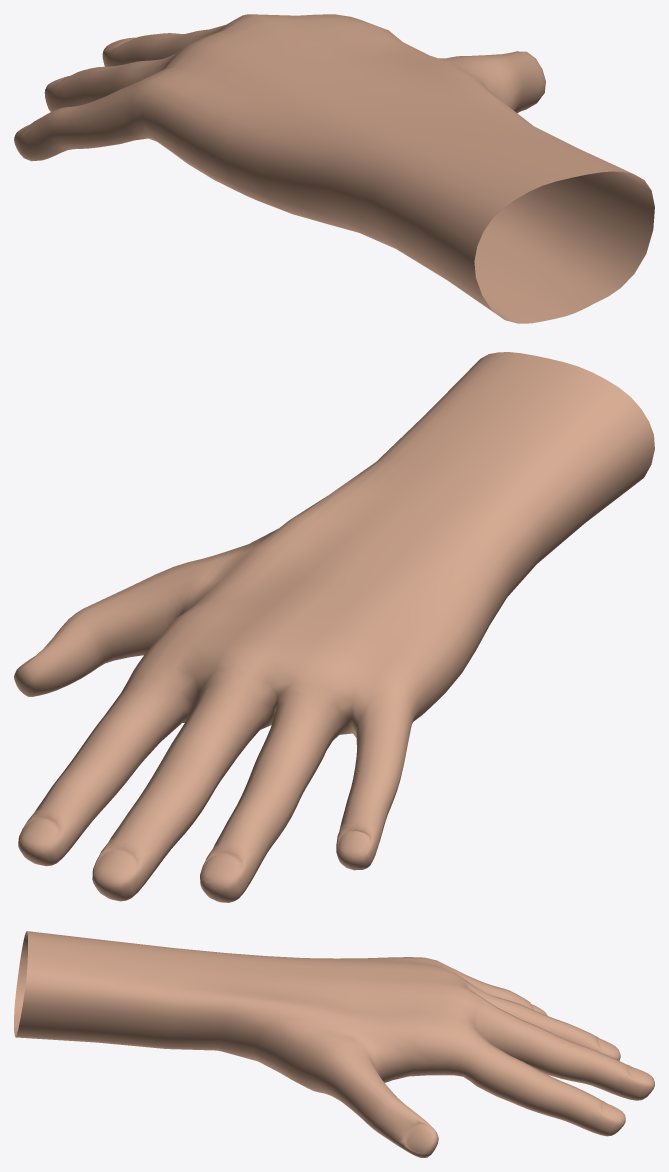
The model's file is hand1.obj.
The picture shows the model from 3 angles, top to bottom: view 1: azimuth 30°, elevation 25°; view 2: azimuth 150°, elevation 25°; view 3: azimuth 270°, elevation 25°; orthographic projection. The views are drawn at different scales.
Parts seen in each view (by area): view 1: Cube.005_Cube.017; view 2: Cube.005_Cube.017; view 3: Cube.005_Cube.017.
Part boxes in pixels (x1,y1,x2,y2): Cube.005_Cube.017: (14,14,654,323); Cube.005_Cube.017: (14,352,654,902); Cube.005_Cube.017: (14,931,654,1157).
Bounding box in the file's own units: 1.77 × 0.876 × 3.23.
